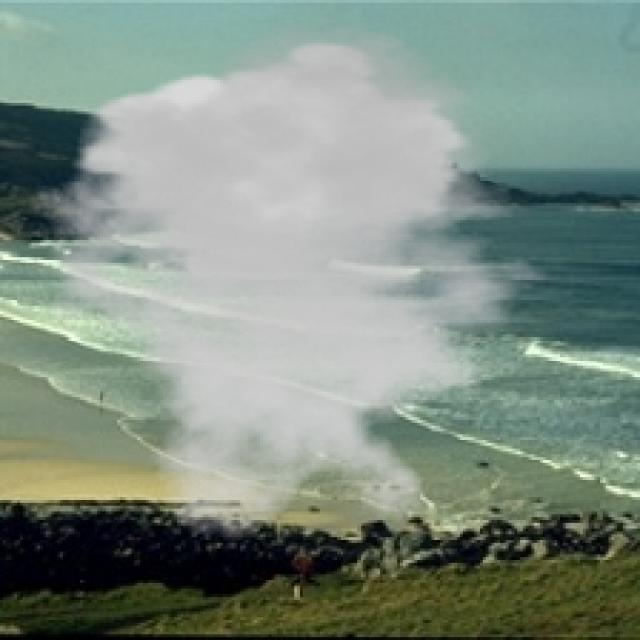smoke: (23, 23, 574, 543)
